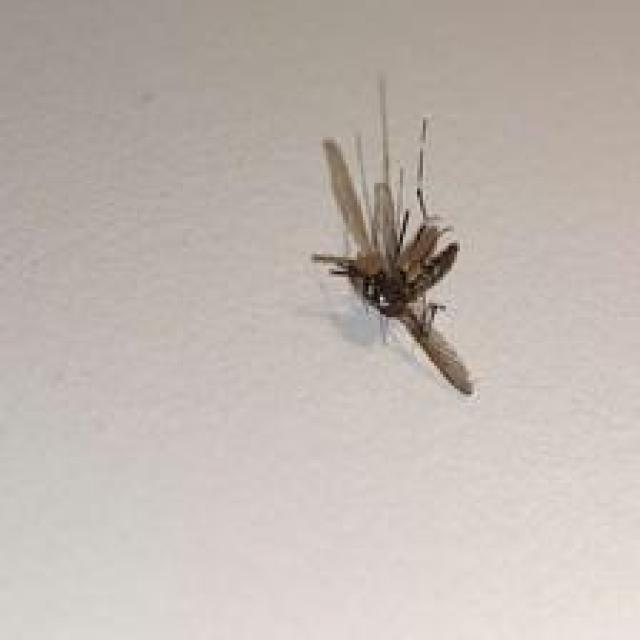Aedes albopictus: (310, 72, 476, 397)
